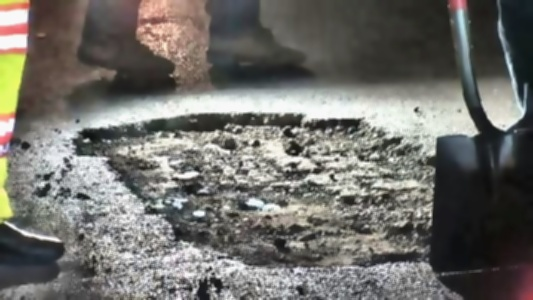pothole: (69, 109, 467, 267)
